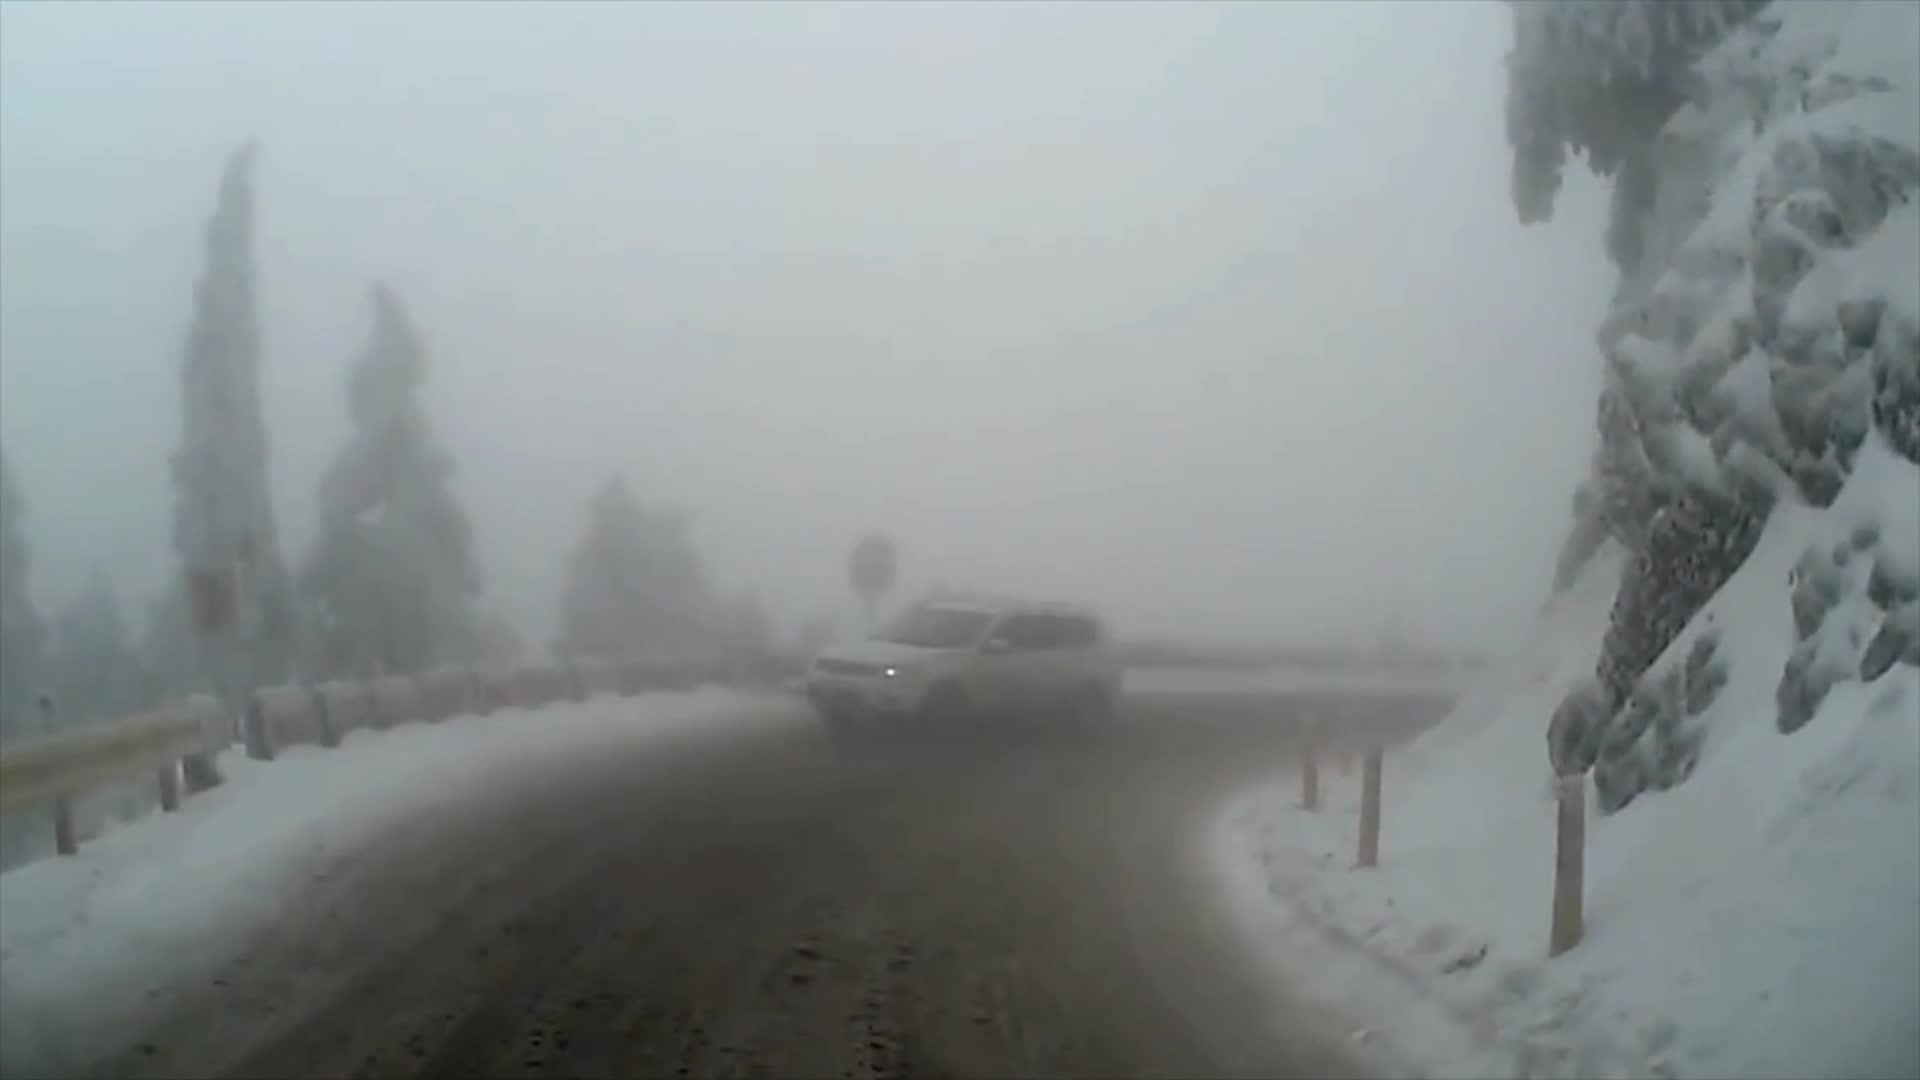vehicle: (807, 591, 1118, 760)
